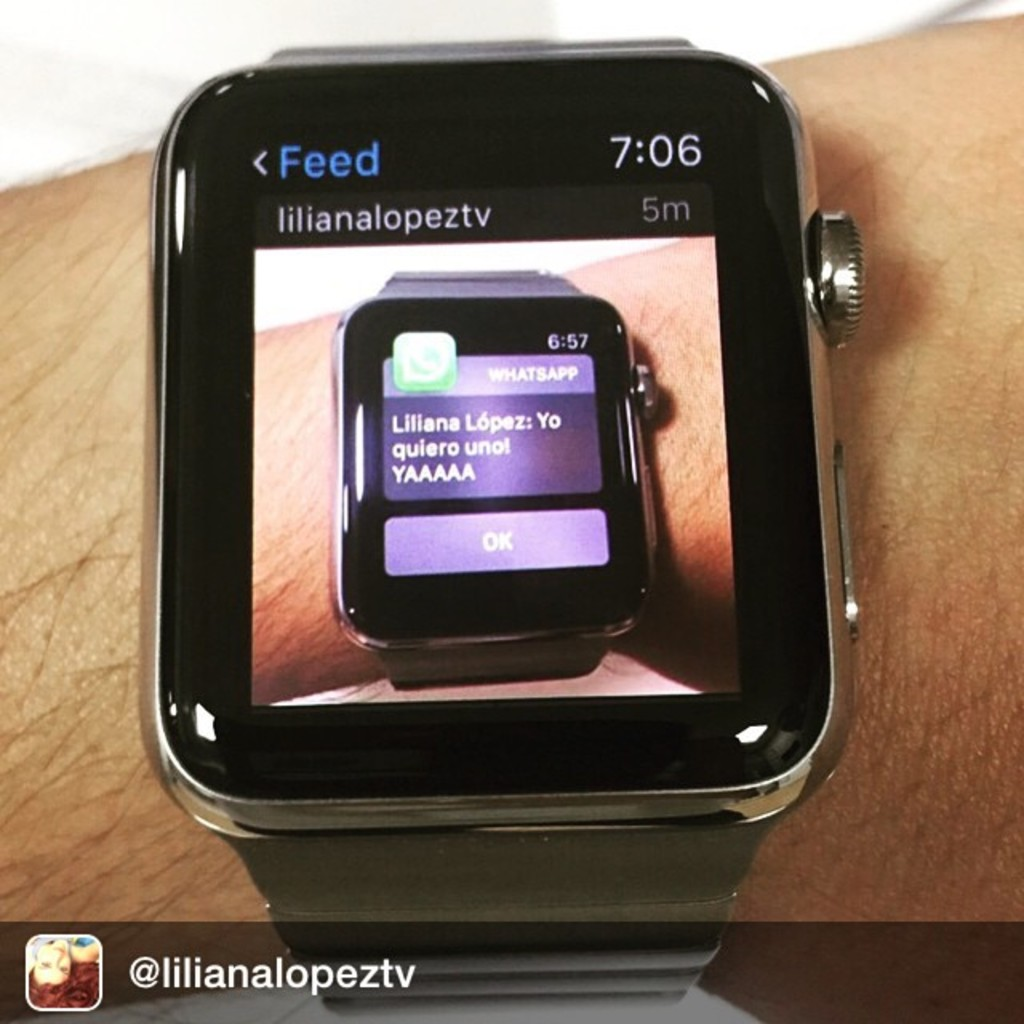watch: (139, 27, 870, 1022)
